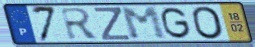7: (31, 5, 60, 43)
G: (160, 6, 193, 40)
M: (119, 6, 170, 41)
O: (190, 5, 226, 41)
R: (58, 7, 101, 41)
Z: (92, 6, 132, 42)
